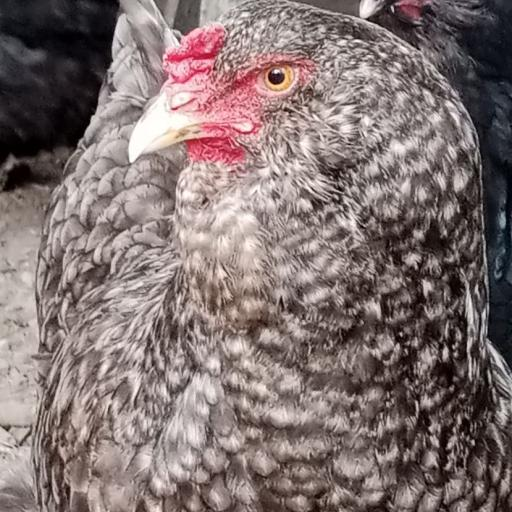healthy: (203, 27, 342, 179)
